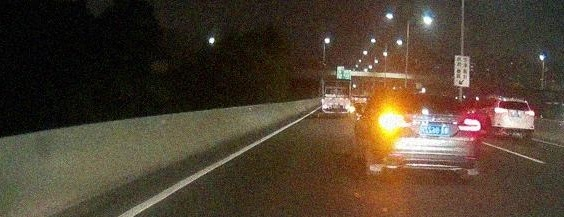L_light: (377, 113, 407, 129), (492, 107, 506, 114)
R_light: (456, 117, 481, 132), (524, 110, 535, 117)
T_light: (414, 93, 435, 98), (509, 100, 518, 103)
night-left: (370, 91, 483, 178)
night-no: (490, 97, 535, 139)
